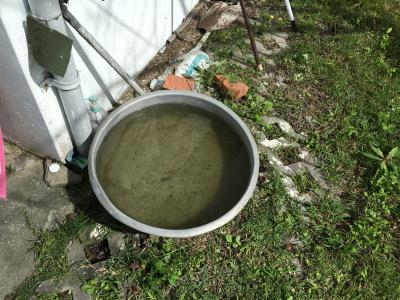bowl: (84, 87, 262, 242)
